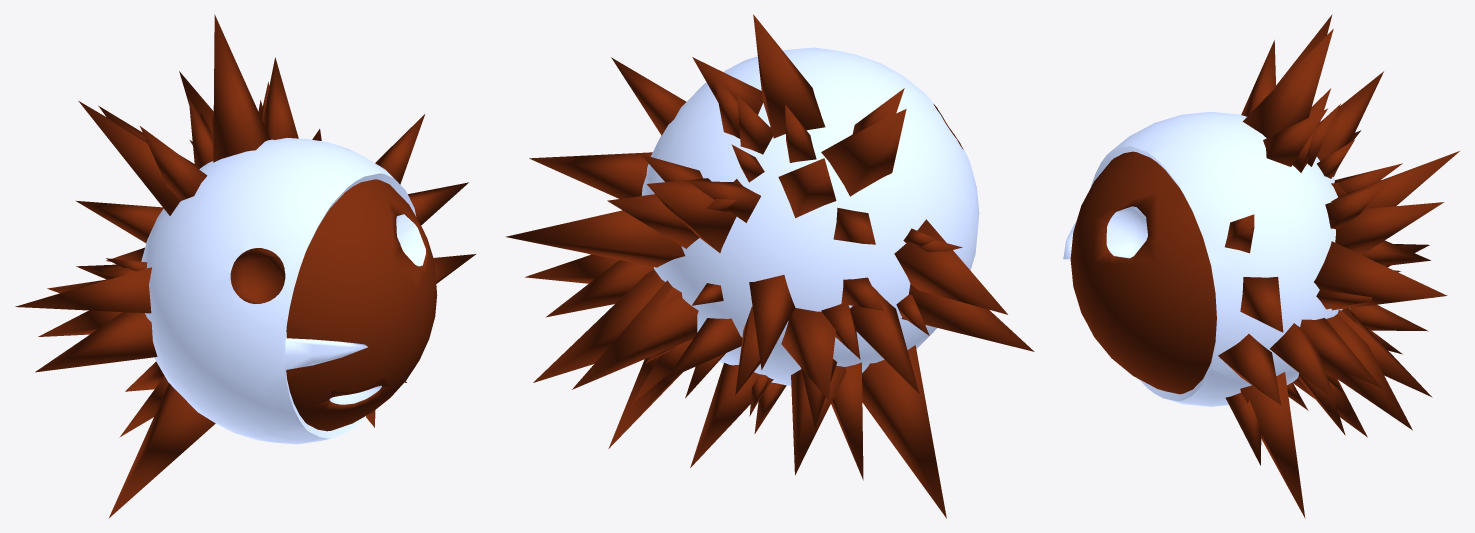
Rendered from moonface.glb.
The picture shows the model from 3 angles, left to right: view 1: azimuth 30°, elevation 25°; view 2: azimuth 150°, elevation 25°; view 3: azimuth 270°, elevation 25°; orthographic projection. The views are drawn at different scales.
Visible parts, largest first — view 1: Sphere.002, Cube.002, Sphere; view 2: Cube.002, Sphere.002; view 3: Cube.002, Sphere.002, Sphere.
Part boxes in pixels (<box>): Sphere.002: <box>141,138,416,444</box>; Cube.002: <box>15,14,475,518</box>; Sphere: <box>286,179,437,431</box>; Cube.002: <box>505,14,1034,518</box>; Sphere.002: <box>641,47,979,386</box>; Cube.002: <box>1218,14,1459,518</box>; Sphere.002: <box>1063,111,1349,406</box>; Sphere: <box>1070,151,1216,394</box>.
Bounding box in the file's own units: 1.7 × 1.6 × 1.35.
